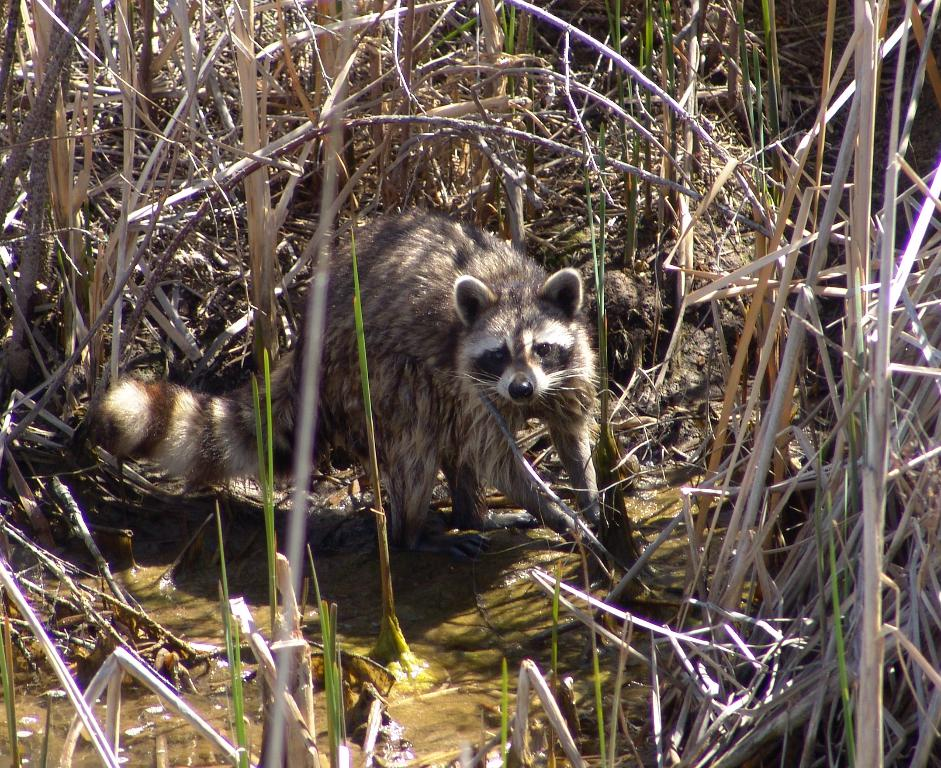raccoon: (94, 217, 610, 557)
